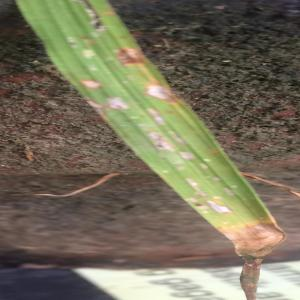Rice_Blast: (110, 37, 146, 73), (145, 77, 188, 105), (101, 90, 142, 119), (72, 69, 101, 96)
